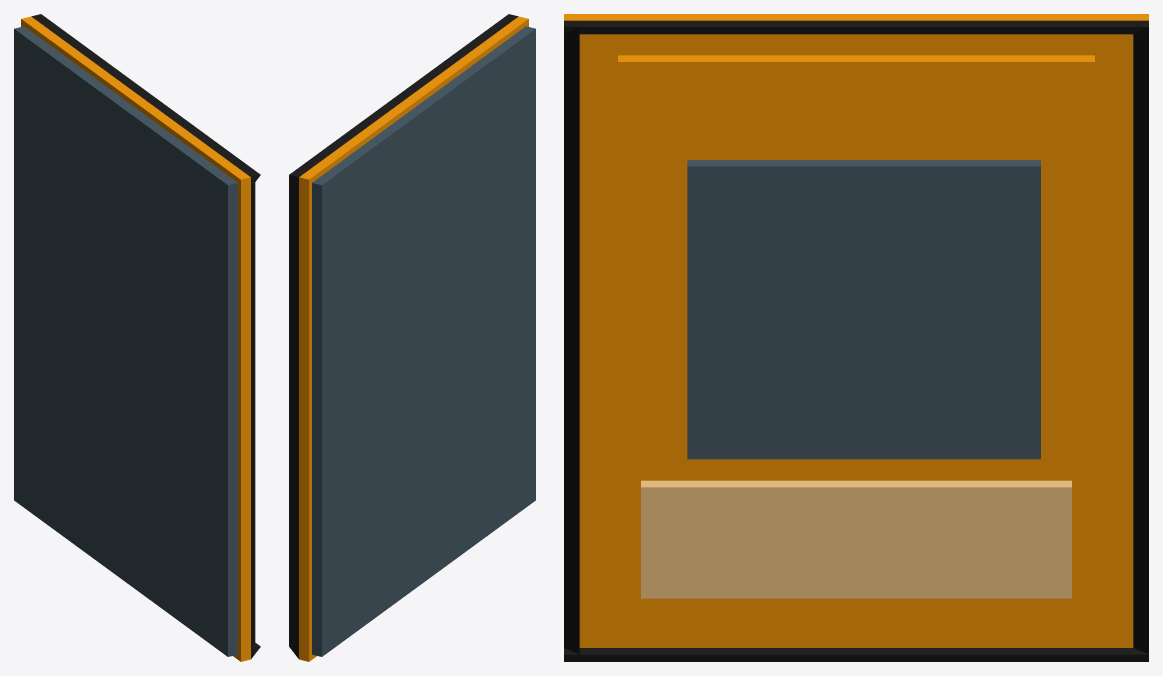
Rendered from Trading Card.glb.
3 views of the same model, side by side, from view 1: azimuth 30°, elevation 25°; view 2: azimuth 150°, elevation 25°; view 3: azimuth 270°, elevation 25° (orthographic). The views are drawn at different scales.
Parts seen in each view (by area): view 1: group1866753995, group394142201, group2074676048, group1679968468; view 2: group1866753995, group394142201, group1851066618, group1679968468; view 3: group394142201, group1908174216, group724367130, group1189962451, group2074676048, group1851066618, group1679968468, group981423312.
Boxes of the visible parts, x1,y1,x2,y2 form: group1866753995: (14, 26, 237, 656); group394142201: (21, 16, 250, 661); group2074676048: (245, 170, 255, 648); group1679968468: (31, 14, 260, 187); group1866753995: (312, 26, 535, 656); group394142201: (299, 16, 528, 661); group1851066618: (289, 175, 298, 648); group1679968468: (289, 14, 517, 177); group394142201: (564, 14, 1148, 647); group1908174216: (687, 160, 1040, 459); group724367130: (641, 480, 1071, 598); group1189962451: (618, 55, 1094, 131); group2074676048: (564, 20, 579, 654); group1851066618: (1133, 21, 1148, 654); group1679968468: (564, 20, 1148, 34); group981423312: (564, 648, 1148, 661).
Bounding box in the file's own units: 0.03 × 0.46 × 0.38.
